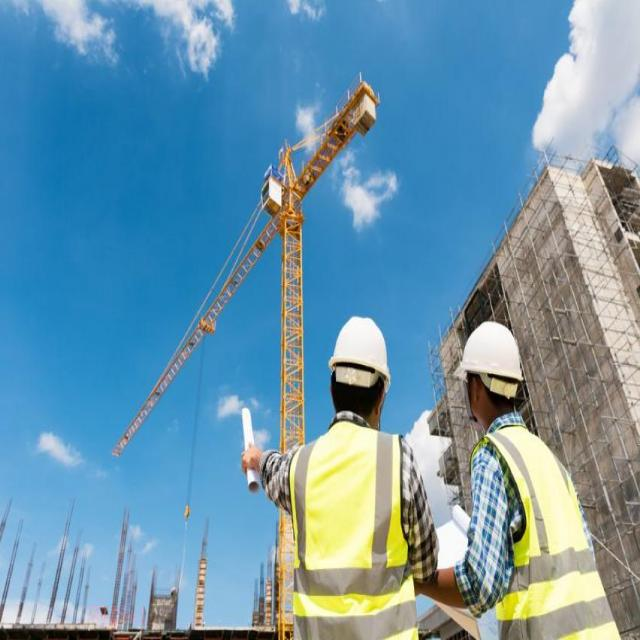Reflective-Jacket: (467, 420, 625, 639), (283, 417, 423, 639)
Safety-Helmet: (454, 311, 529, 386), (326, 307, 394, 384)
